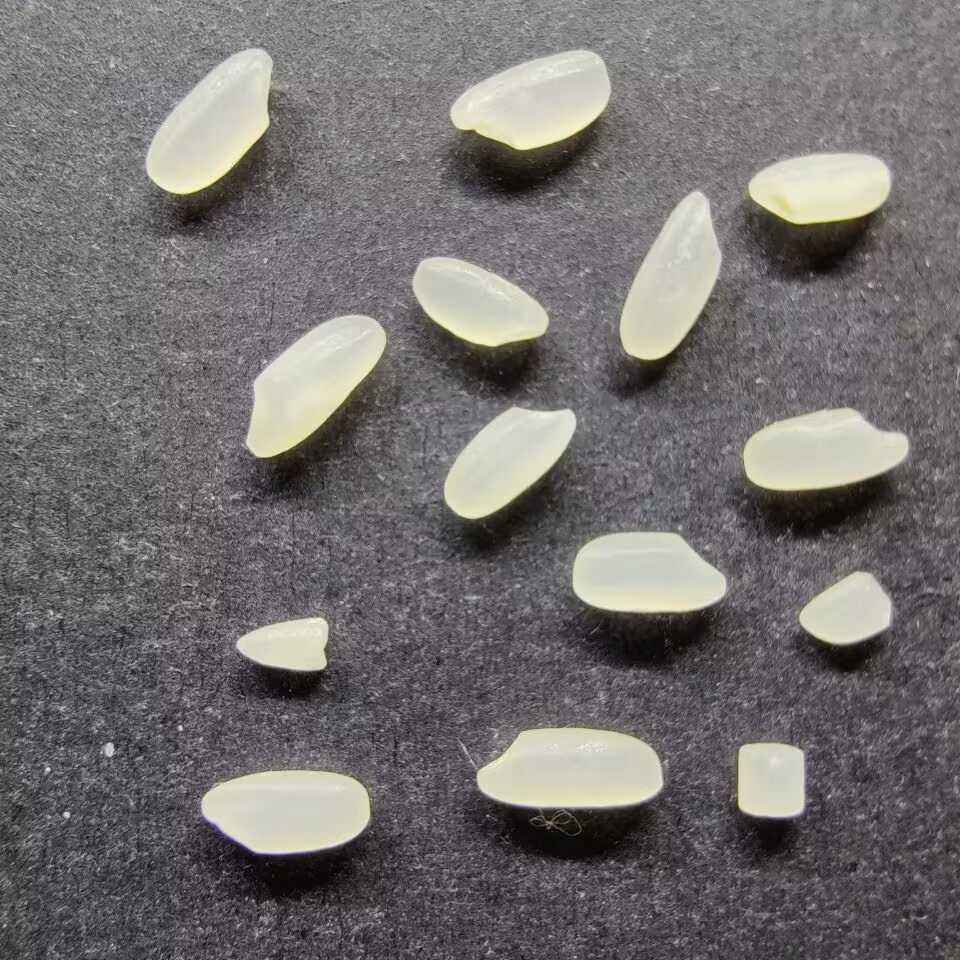broken: (796, 569, 896, 646), (233, 615, 330, 677), (735, 741, 810, 820)
rice: (245, 312, 387, 460), (143, 46, 273, 195), (616, 188, 723, 362), (449, 48, 611, 151), (441, 403, 579, 520), (475, 727, 664, 810), (198, 768, 370, 857), (742, 406, 910, 491), (570, 530, 729, 614), (410, 256, 550, 348), (746, 151, 892, 226)
